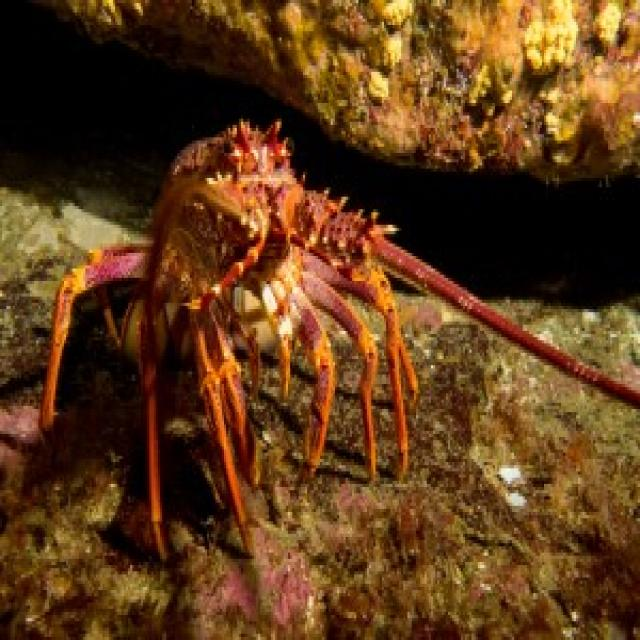lobsters: (76, 4, 616, 640)
